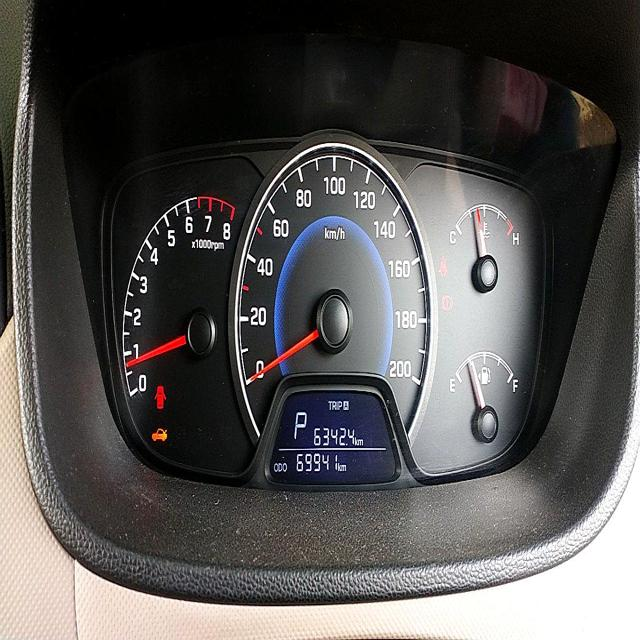odometer: (291, 450, 352, 478)
